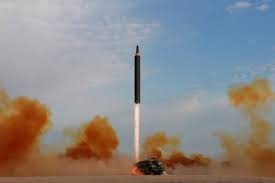ten_lua: (129, 40, 145, 110)
